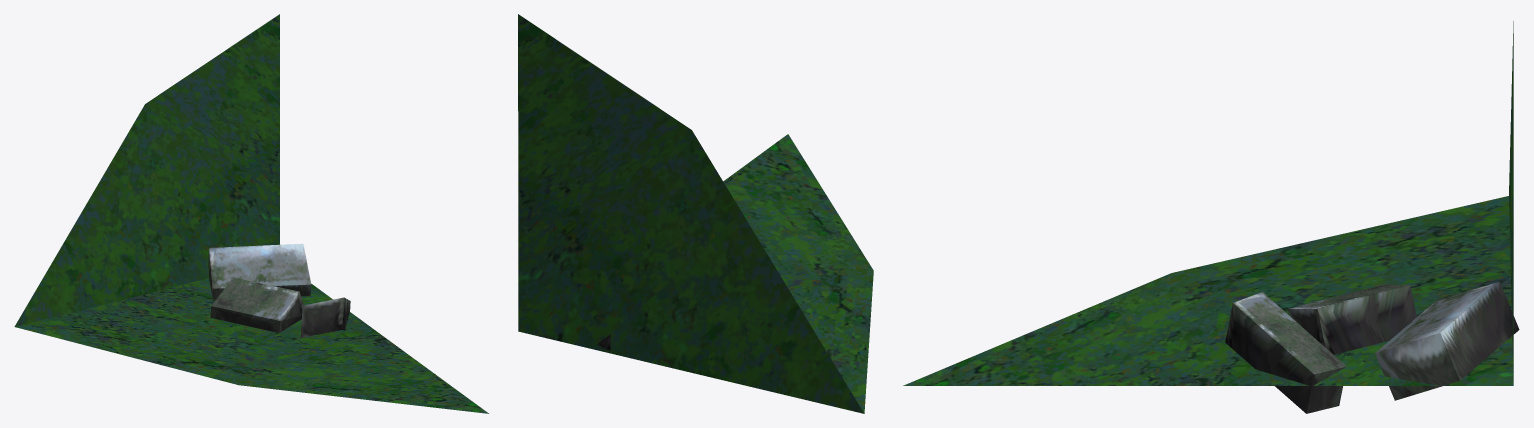
File: stemple_rubble_cap_01.fbx
The picture shows the model from 3 angles, left to right: view 1: azimuth 30°, elevation 25°; view 2: azimuth 150°, elevation 25°; view 3: azimuth 270°, elevation 25°; orthographic projection. The views are drawn at different scales.
Parts seen in each view (by area): view 1: obj1.073; view 2: obj1.073; view 3: obj1.073.
Part boxes in pixels (bbox=[...]): obj1.073: bbox=[14, 14, 488, 413]; obj1.073: bbox=[518, 14, 873, 413]; obj1.073: bbox=[903, 21, 1519, 413].
Size of the model in its own units: 2.49 by 2.42 by 3.36.
